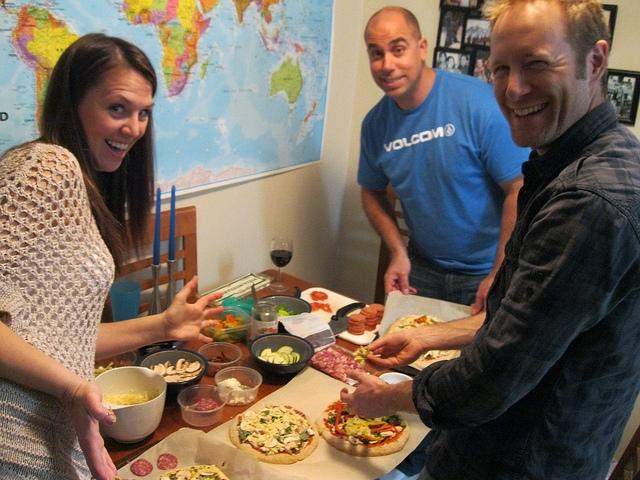cucumber: (277, 346, 293, 354), (268, 352, 282, 357), (272, 357, 280, 364), (288, 354, 294, 363)
mushroom: (184, 361, 200, 372), (154, 364, 166, 376), (176, 359, 186, 370), (164, 375, 180, 381), (176, 372, 192, 378)
